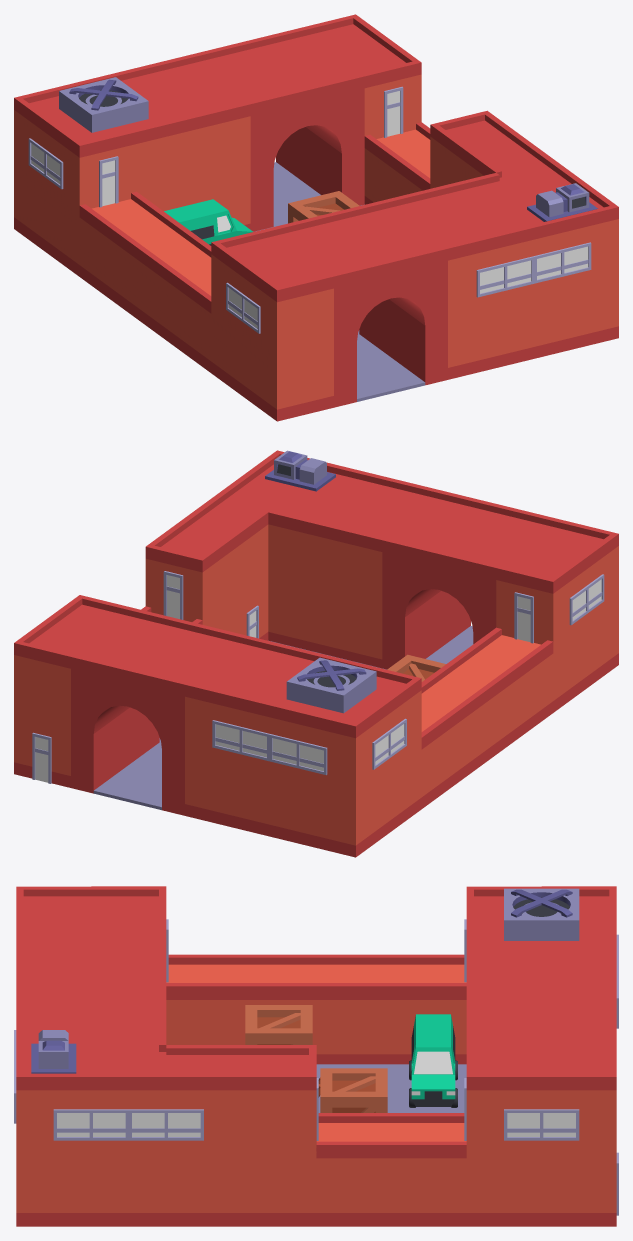
File: CityBlock_004.fbx
3 renders of one model, top to bottom at view 1: azimuth 30°, elevation 25°; view 2: azimuth 150°, elevation 25°; view 3: azimuth 270°, elevation 25°, orthographic. The views are drawn at different scales.
Parts seen in each view (by area): view 1: mergedBlocks; view 2: mergedBlocks; view 3: mergedBlocks.
Boxes of the visible parts, box(x1,y1,x2,y2) form: mergedBlocks: box(14, 14, 618, 421); mergedBlocks: box(14, 450, 618, 857); mergedBlocks: box(14, 886, 618, 1226).
Bounding box in the file's own units: 303 × 123 × 403.
